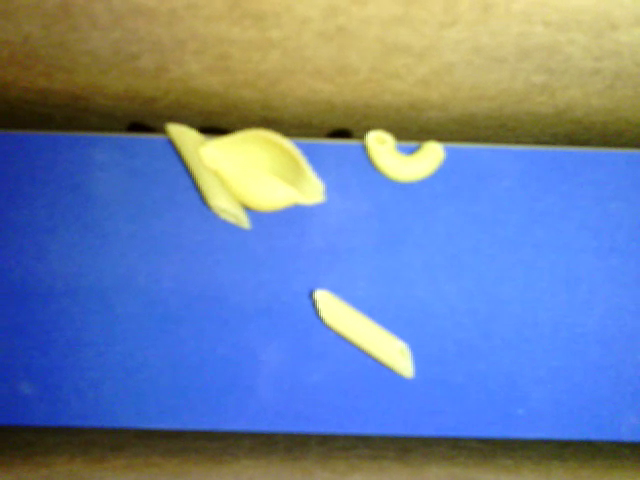elbow: (364, 128, 446, 181)
penne: (163, 120, 250, 230), (311, 287, 414, 378)
shell: (198, 126, 327, 212)
